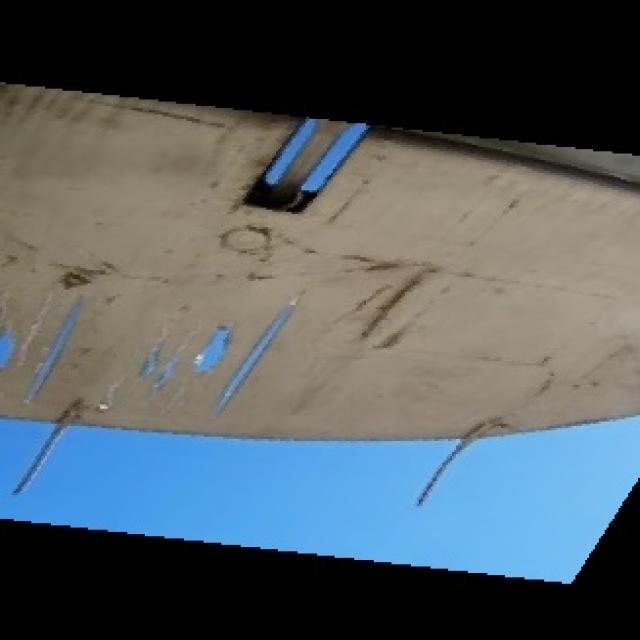crack: (3, 282, 309, 421)
